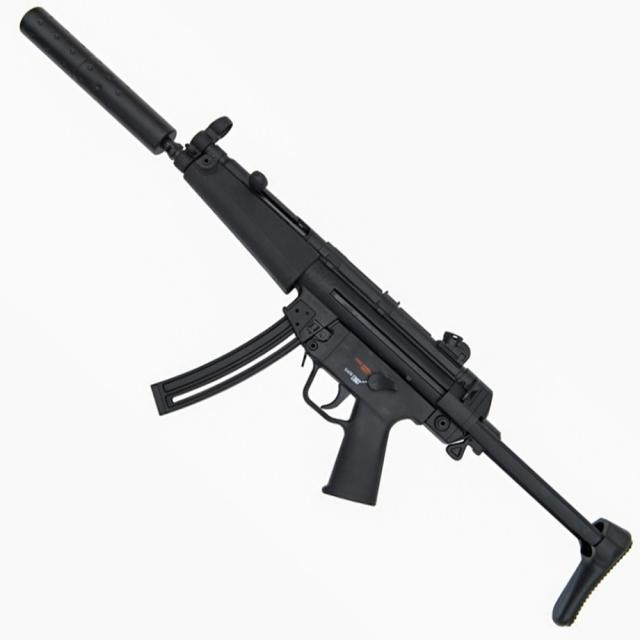SMG: (18, 8, 634, 629)
